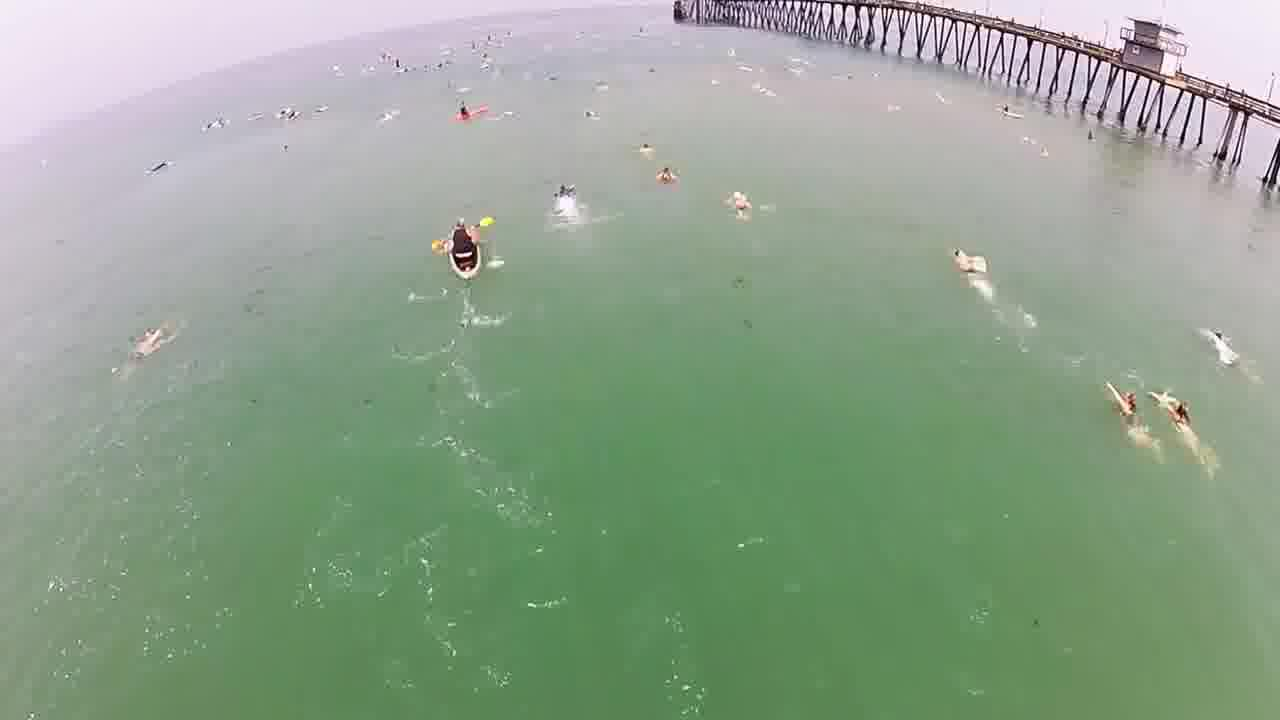swimmer: (1149, 362, 1211, 459), (1105, 376, 1141, 459), (1189, 310, 1243, 363), (129, 312, 172, 366), (939, 235, 988, 282), (721, 181, 761, 226), (547, 175, 582, 222), (649, 160, 687, 188)
